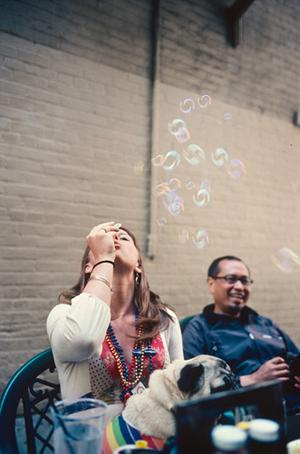person: (46, 219, 189, 454)
